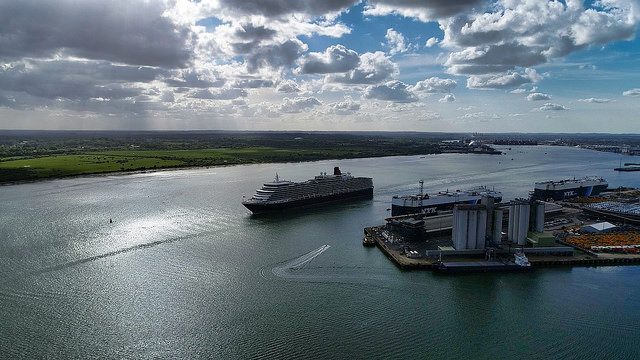bulk carrier: (431, 253, 540, 274)
cruise_ship: (240, 168, 375, 218)
tug_boat: (358, 232, 377, 248)
